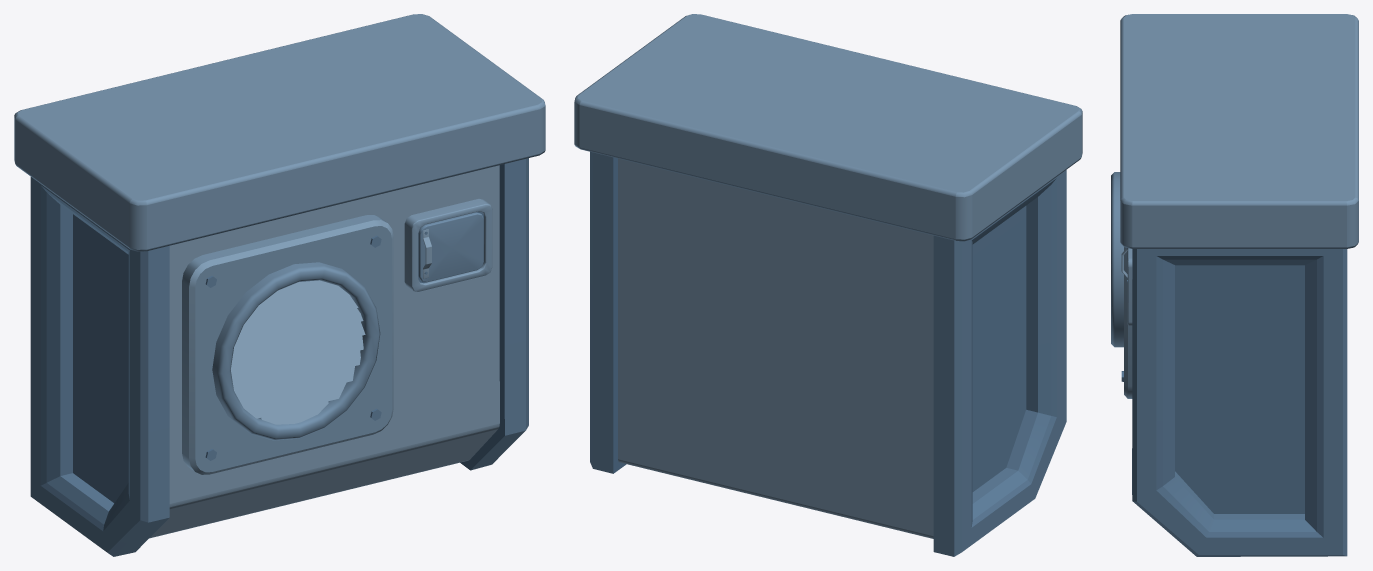
File: air_conditioner_2.fbx
The picture shows the model from 3 angles, left to right: view 1: azimuth 30°, elevation 25°; view 2: azimuth 150°, elevation 25°; view 3: azimuth 270°, elevation 25°; orthographic projection. The views are drawn at different scales.
Visible parts, largest first — view 1: air_conditioner_2; view 2: air_conditioner_2; view 3: air_conditioner_2.
Boxes of the visible parts, x1,y1,x2,y2 form: air_conditioner_2: (14, 14, 545, 556); air_conditioner_2: (574, 14, 1082, 556); air_conditioner_2: (1111, 14, 1358, 556).
Bounding box in the file's own units: 119 × 106 × 65.62.
